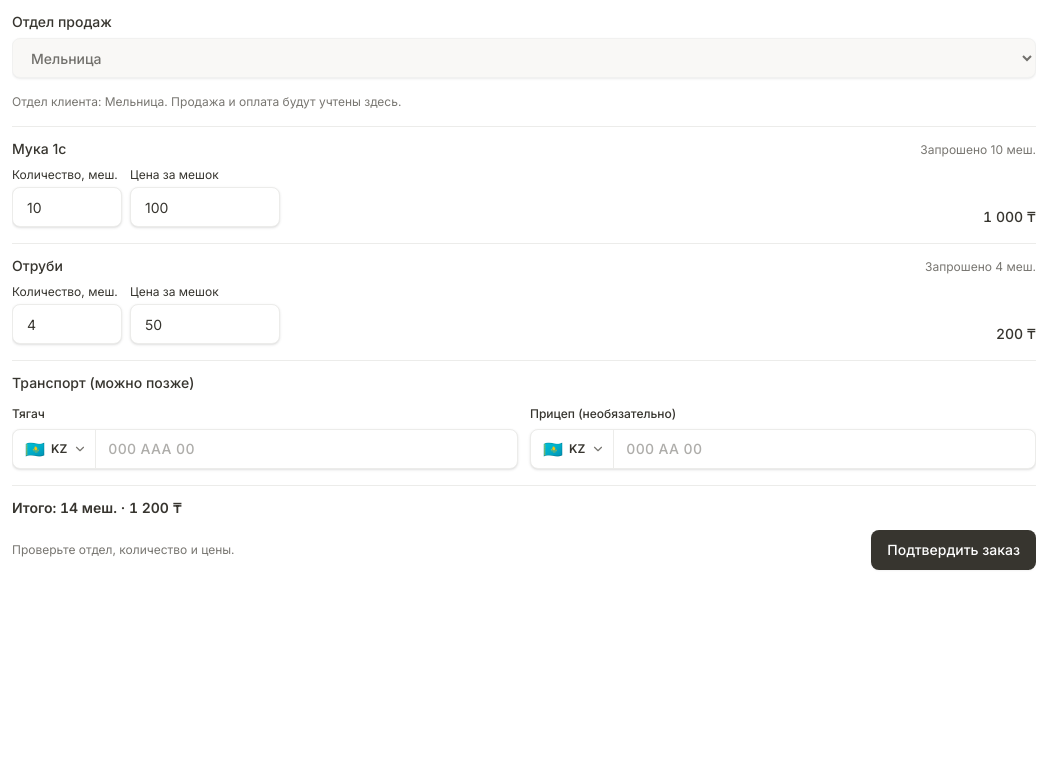
says which number the API would refuse and does not block on an empty one
Type "12" into the field labelled "Прицеп (необязательно)" at (825, 449), box left=614, top=430, right=1035, bottom=468
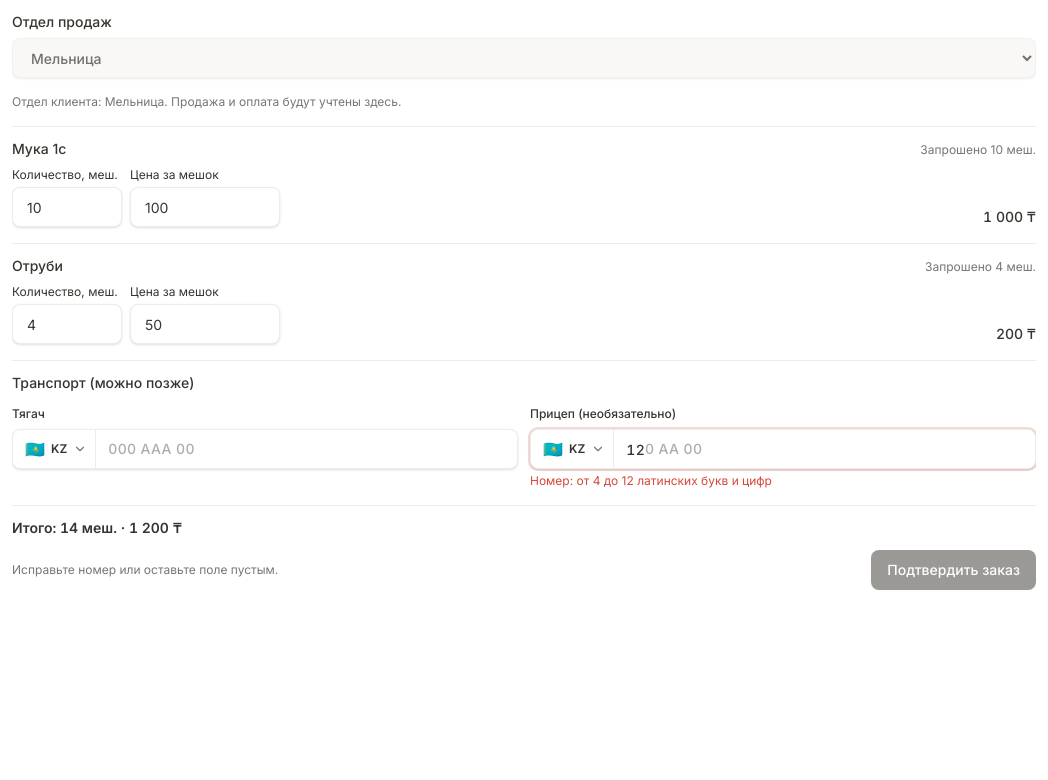
Press Tab
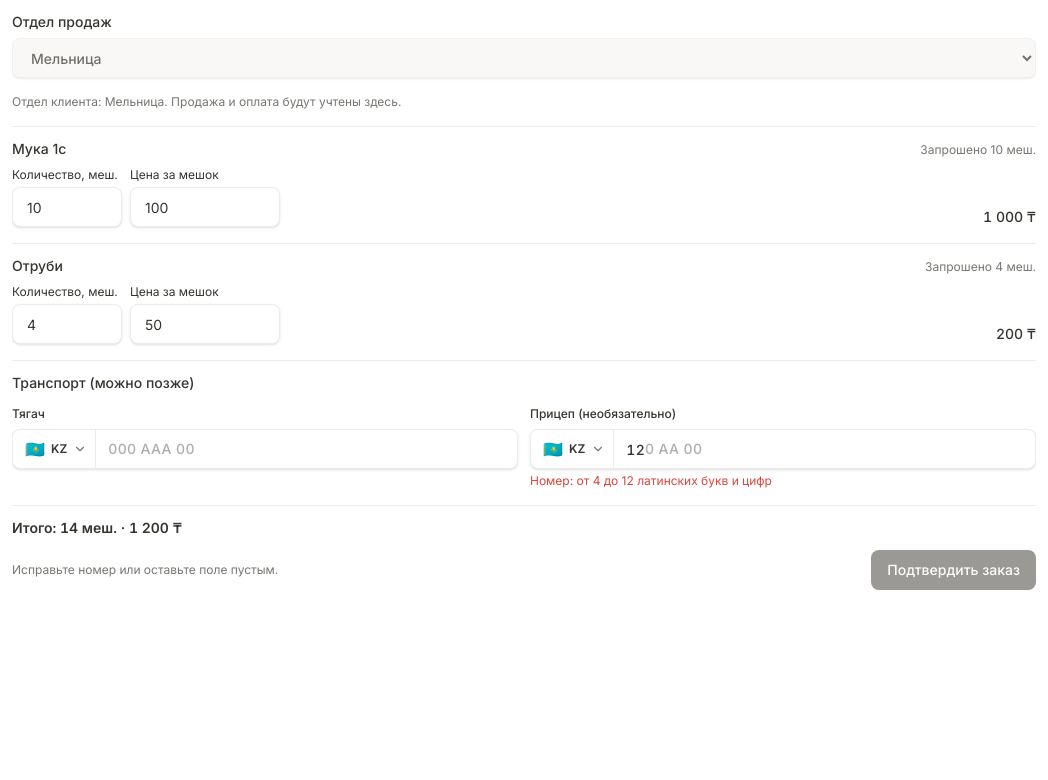
Expected: the button "Подтвердить заказ" is disabled, left=871, top=550, right=1036, bottom=590
Expected: the text "Исправьте номер или оставьте поле пустым." is shown, left=12, top=562, right=278, bottom=578
Clear the field labelled "Прицеп (необязательно)" at (825, 449), box left=614, top=430, right=1035, bottom=468
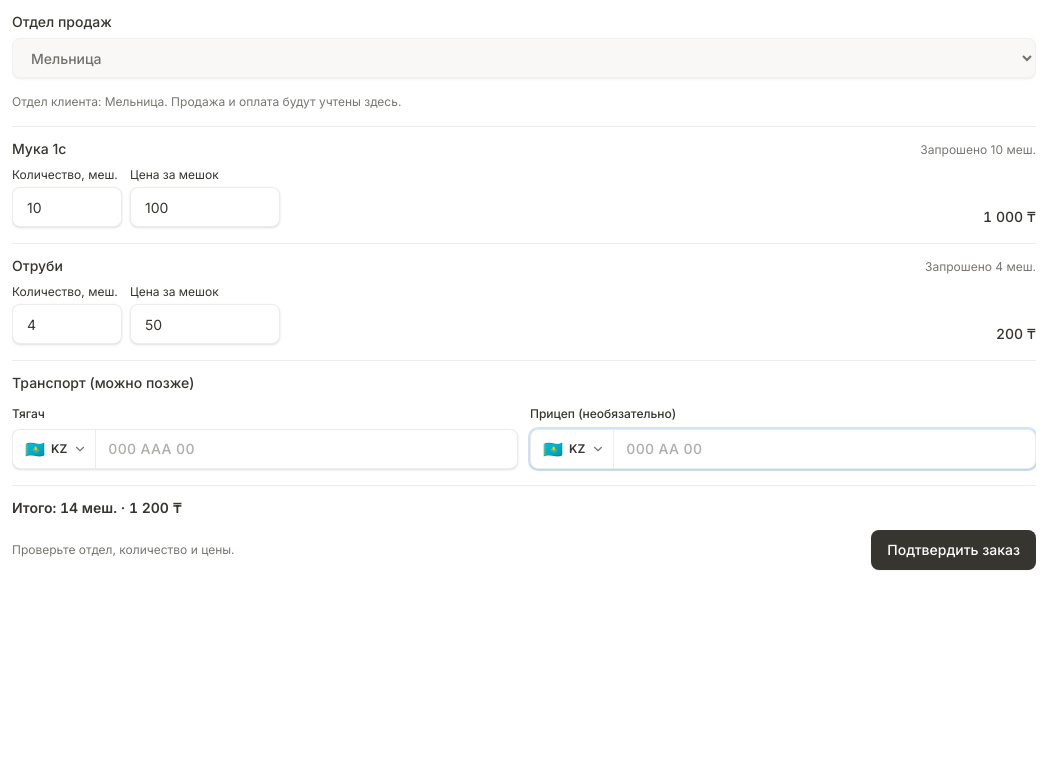
Expected: the button "Подтвердить заказ" is enabled, left=871, top=530, right=1036, bottom=570
